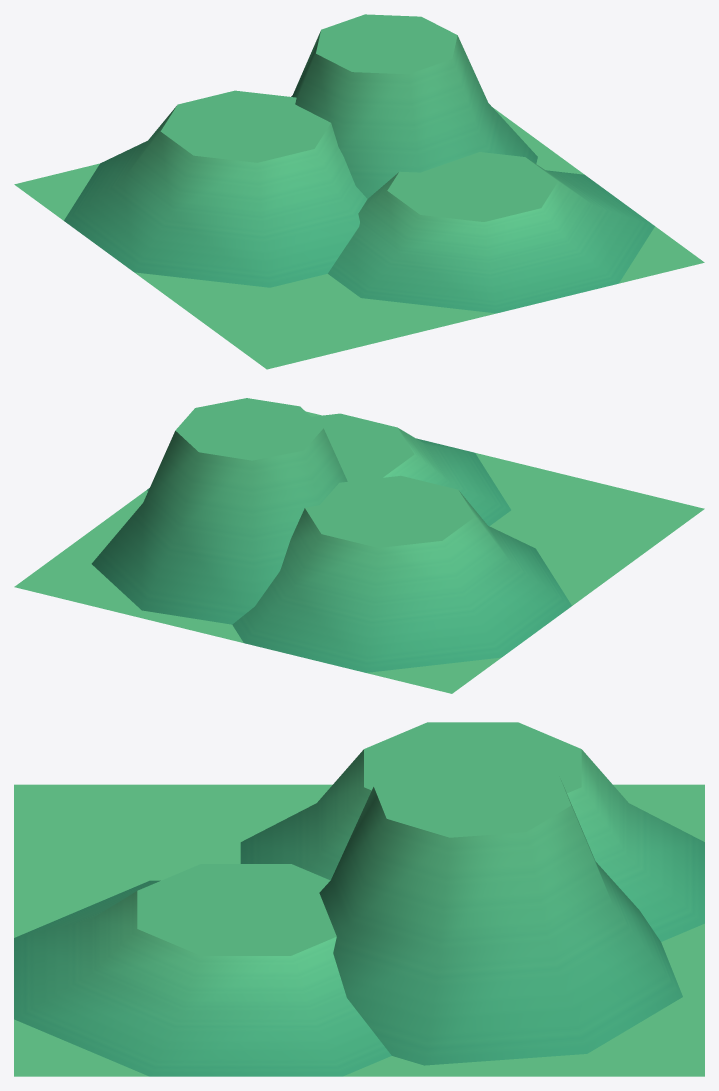
Rendered from ground-hills.obj.
3 views of the same model, one above another, from view 1: azimuth 30°, elevation 25°; view 2: azimuth 150°, elevation 25°; view 3: azimuth 270°, elevation 25° (orthographic). The views are drawn at different scales.
Visible parts, largest first — view 1: ground-hills; view 2: ground-hills; view 3: ground-hills.
Part boxes in pixels (box(x1,y1,x2,y2)): ground-hills: box(14, 14, 704, 369); ground-hills: box(14, 398, 704, 693); ground-hills: box(14, 722, 704, 1076).
Size of the model in its own units: 1 by 0.2883 by 1.
1 material, 1 textured.
